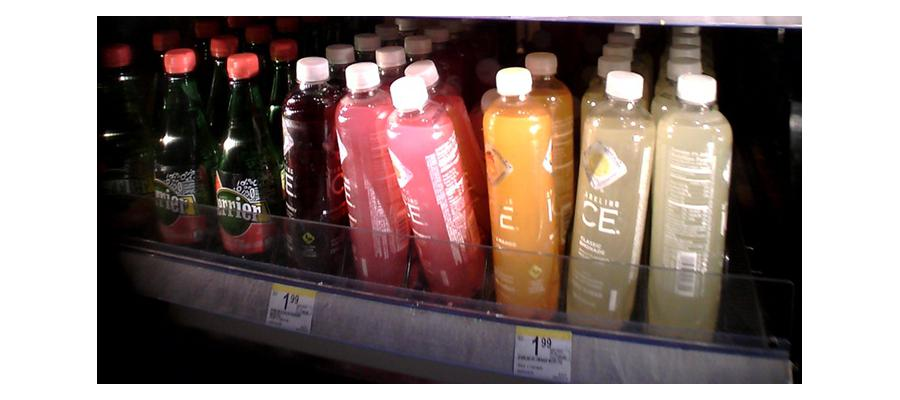bottle: (385, 69, 488, 300), (569, 72, 655, 330), (484, 62, 570, 320), (651, 77, 735, 336), (337, 56, 402, 288), (278, 54, 340, 279), (212, 54, 273, 267), (152, 50, 207, 255)
